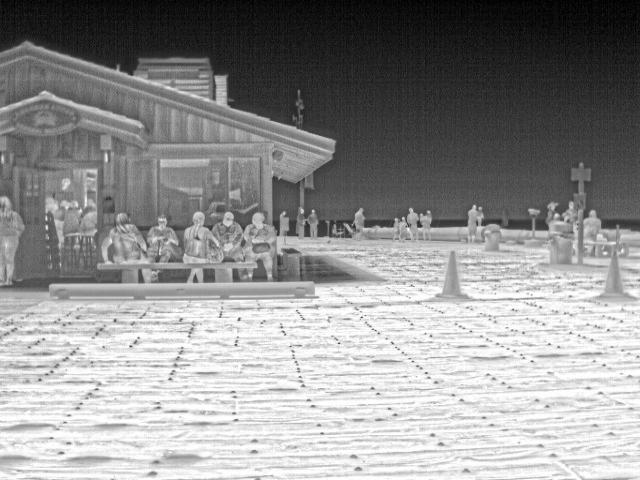person: (182, 211, 220, 281), (99, 212, 147, 263), (242, 212, 277, 279), (1, 193, 24, 290), (211, 213, 247, 262), (147, 216, 180, 264), (581, 209, 604, 242), (62, 203, 83, 237), (78, 204, 98, 236), (466, 204, 480, 242), (407, 204, 421, 240), (293, 206, 309, 237), (350, 207, 366, 238), (306, 208, 320, 239), (398, 215, 411, 241)
